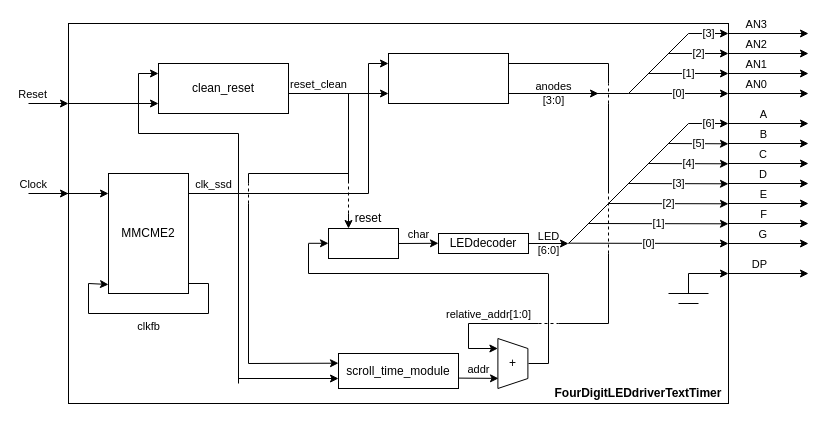
Some shapes in this 834 by 421 pixel diagram are drawn without their labels. Here are the shapes that lost their labels. From the top down, the box of each, then its label:
(388, 52, 508, 104): digit_driver_module
(328, 228, 398, 258): message [3:0] [0:15]
